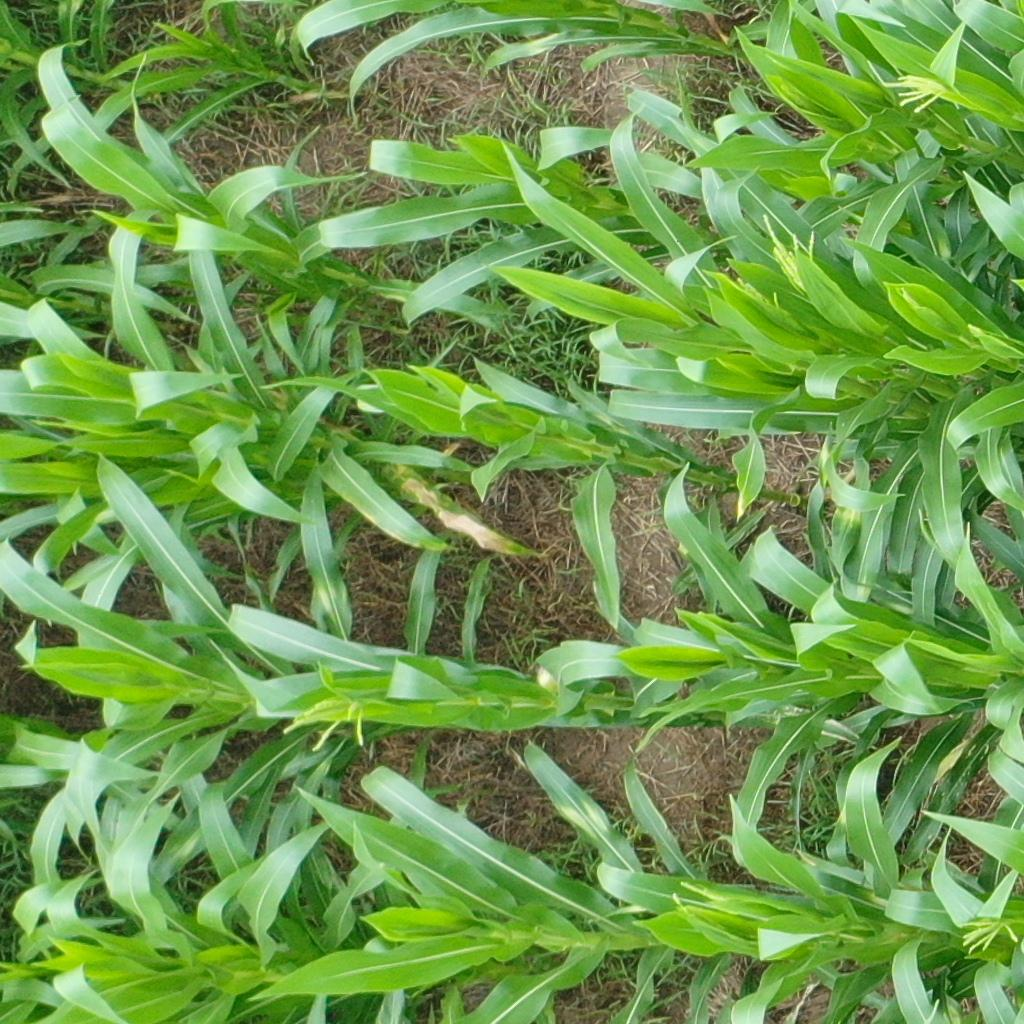Tassel: (733, 210, 823, 315), (282, 697, 371, 754), (884, 70, 952, 113), (959, 913, 1019, 954), (670, 877, 729, 917)
